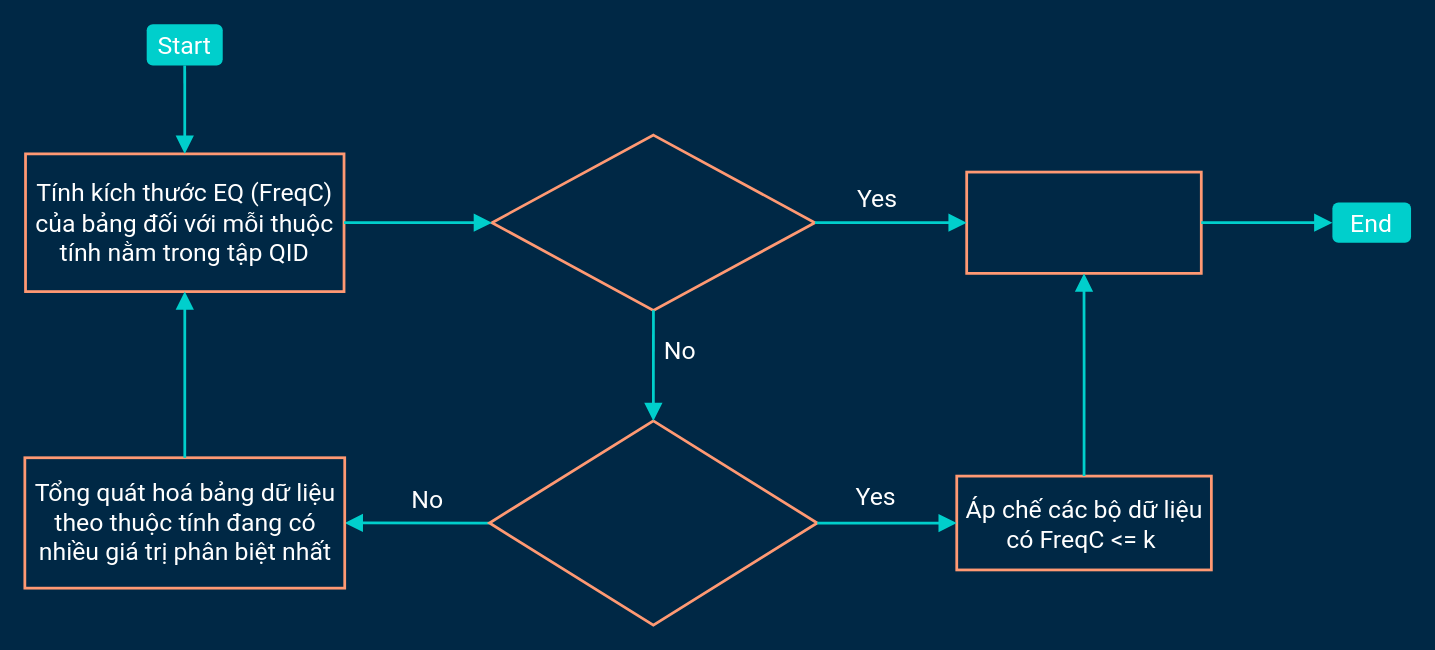
The diagram is 1435 pixels wide and 650 high, and some of its shapes have lost their labels. Each missing label, with the box of its shape:
Bảng dữ liệu có đủ điều kiện để áp chế ? (FreqC <= k): (487, 419, 818, 626)
Kiểm tra ràng buộc K-Anonymity ? (FreqC >= k): (490, 133, 816, 311)
Trả về bảng dữ liệu đã được ẩn danh: (965, 170, 1202, 274)
